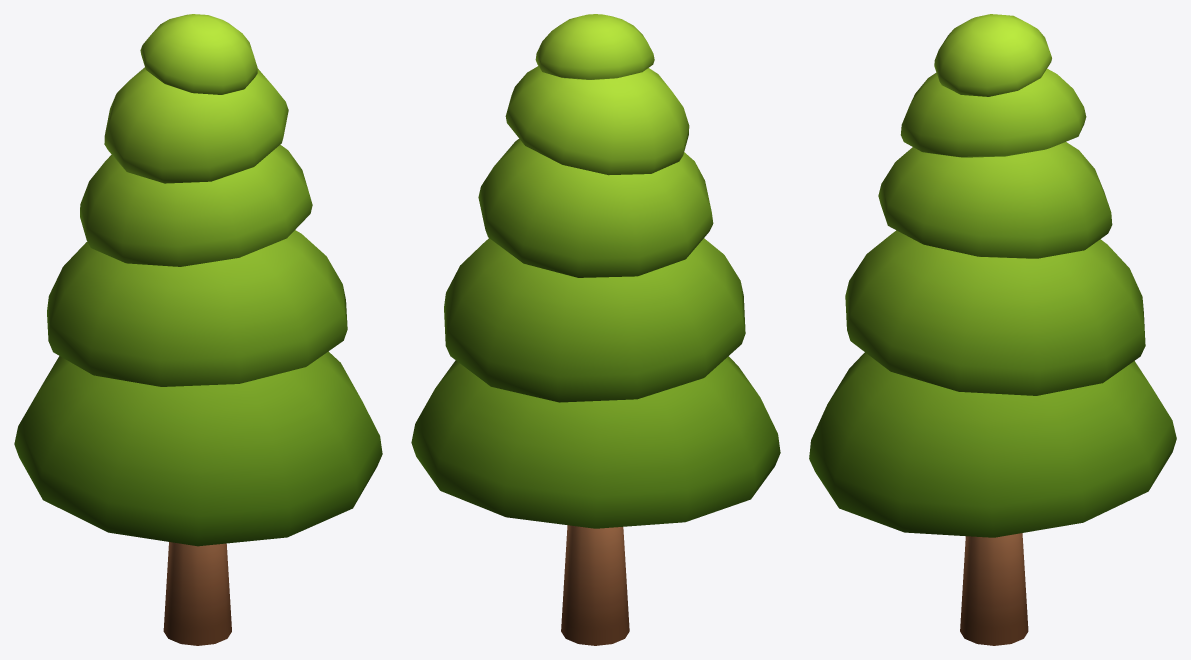
Rendered from lpb_tree_3_a.fbx.
3 views of the same model, side by side, from view 1: azimuth 30°, elevation 25°; view 2: azimuth 150°, elevation 25°; view 3: azimuth 270°, elevation 25° (orthographic).
Visible parts, largest first — view 1: ap_tree_3; view 2: ap_tree_3; view 3: ap_tree_3.
Boxes of the visible parts, x1,y1,x2,y2 form: ap_tree_3: (14,14,382,645); ap_tree_3: (411,14,780,645); ap_tree_3: (809,14,1176,645).
Size of the model in its own units: 293 by 536 by 293.
